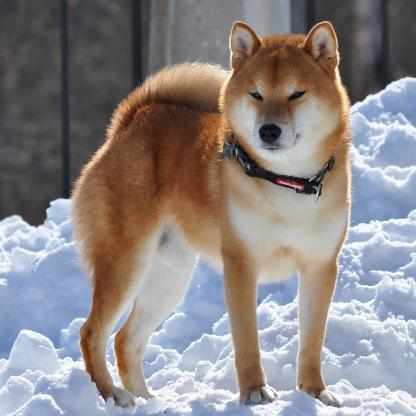Siba-ny: (68, 17, 357, 406)
